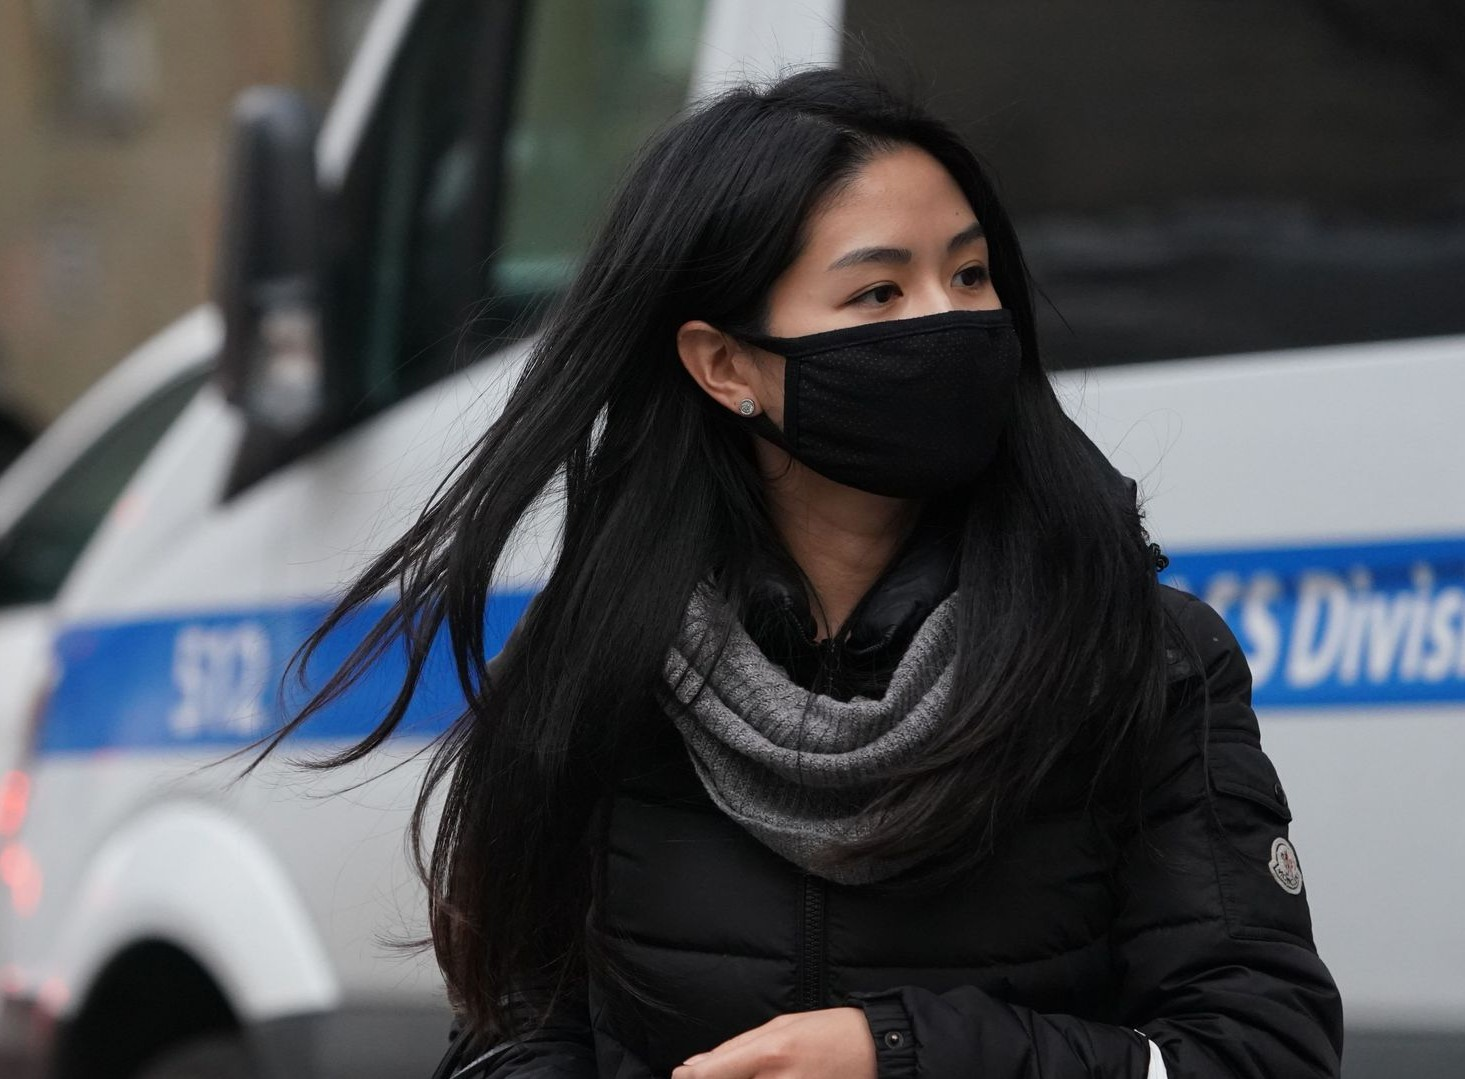with_mask: (672, 148, 1034, 533)
